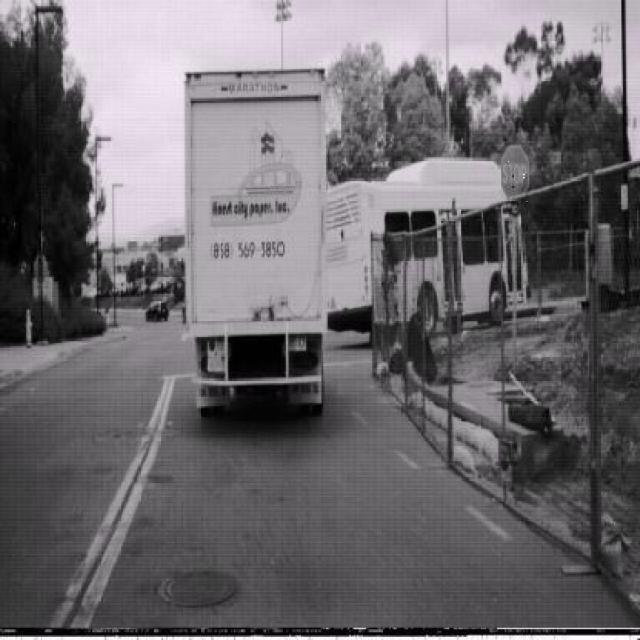stop: (500, 143, 530, 203)
